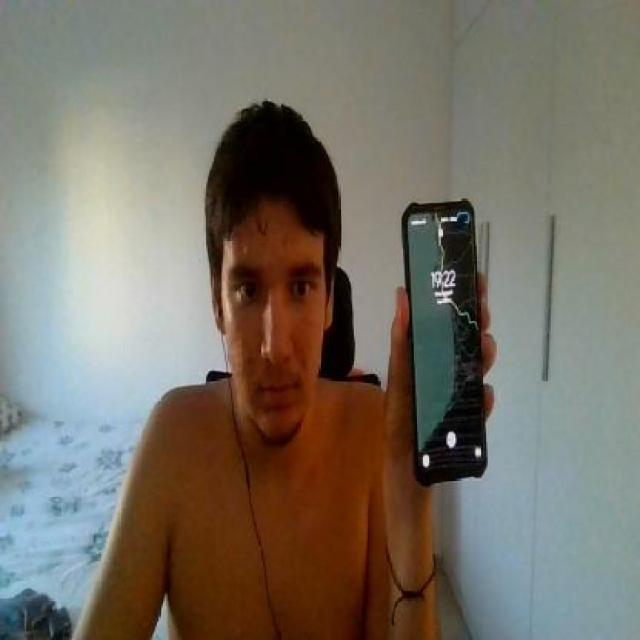phone: (402, 196, 490, 487)
